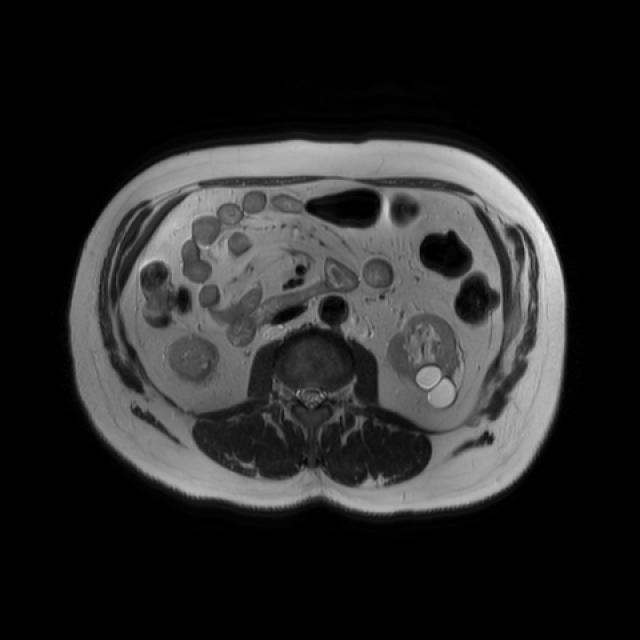sag: (167, 335, 220, 386)
sol: (385, 311, 458, 412)
